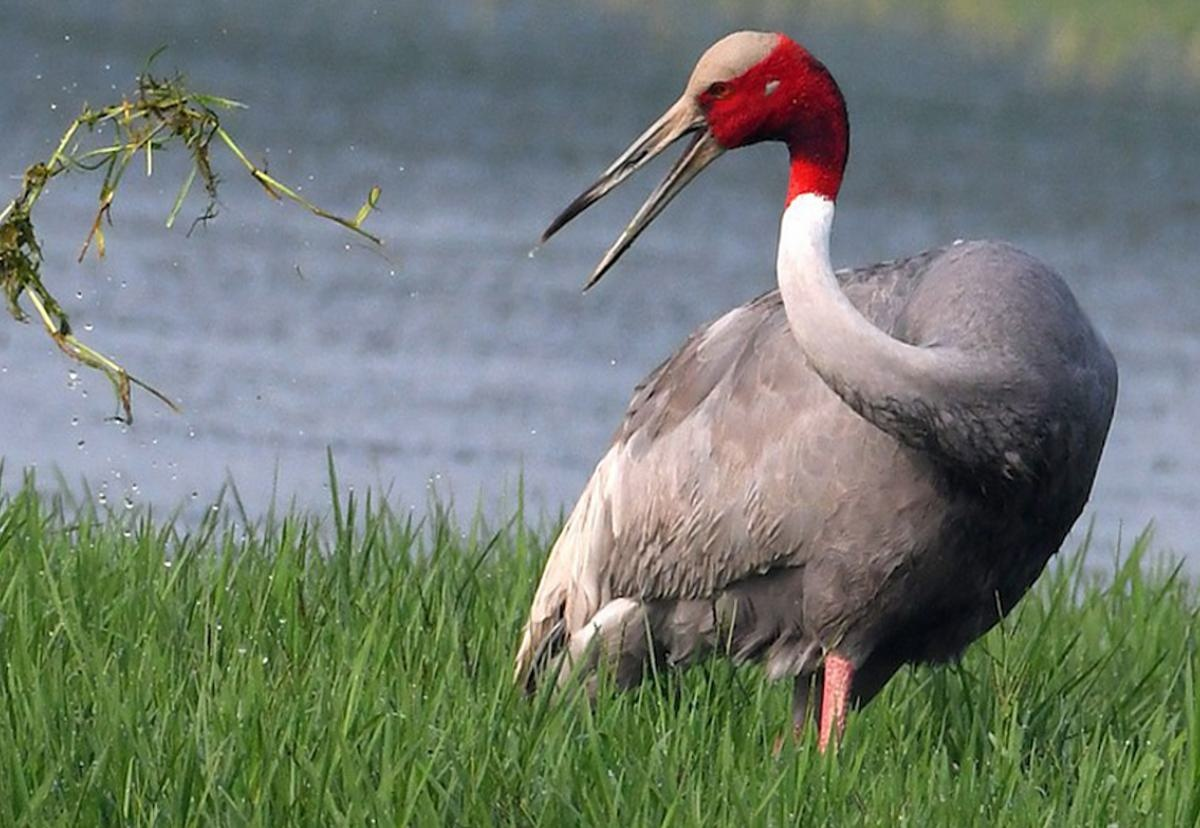crane: (514, 20, 1129, 744)
